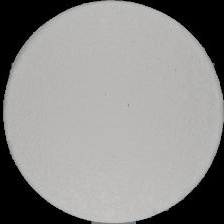61919-122: (0, 0, 224, 224)
